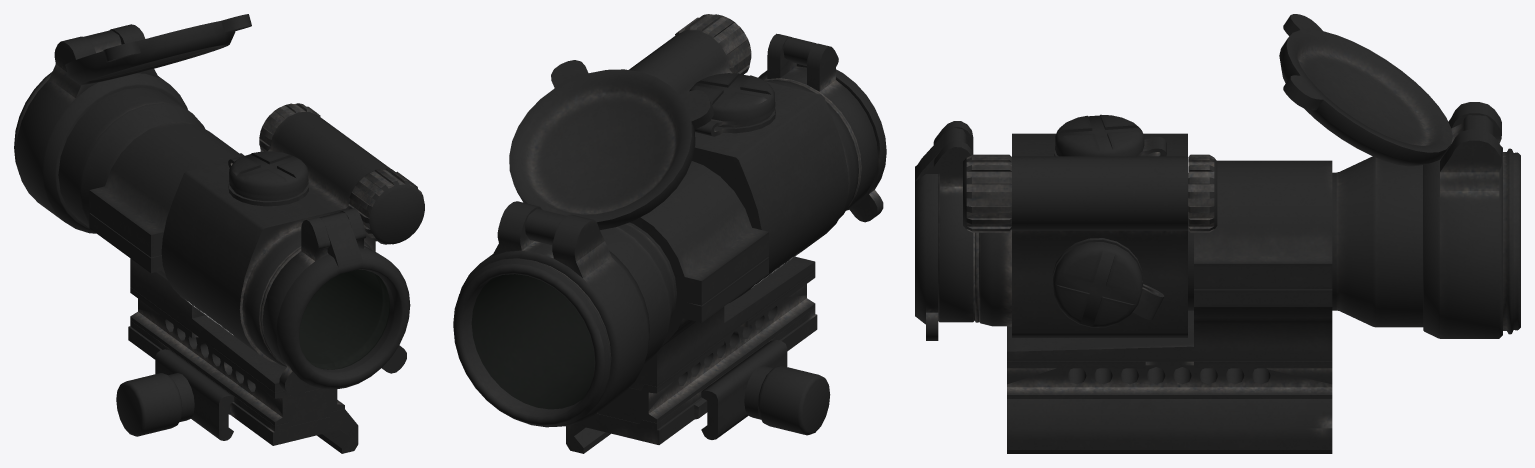
File: AimPointPro_sketchfab.fbx
3 renders of one model, left to right at view 1: azimuth 30°, elevation 25°; view 2: azimuth 150°, elevation 25°; view 3: azimuth 270°, elevation 25°, orthographic. The views are drawn at different scales.
Visible parts, largest first — view 1: AimPointPro; view 2: AimPointPro; view 3: AimPointPro.
Part boxes in pixels (x1,y1,x2,y2): AimPointPro: (14, 14, 424, 453); AimPointPro: (453, 14, 886, 453); AimPointPro: (915, 14, 1520, 453).
Size of the model in its own units: 5.47 by 8.63 by 12.31.
